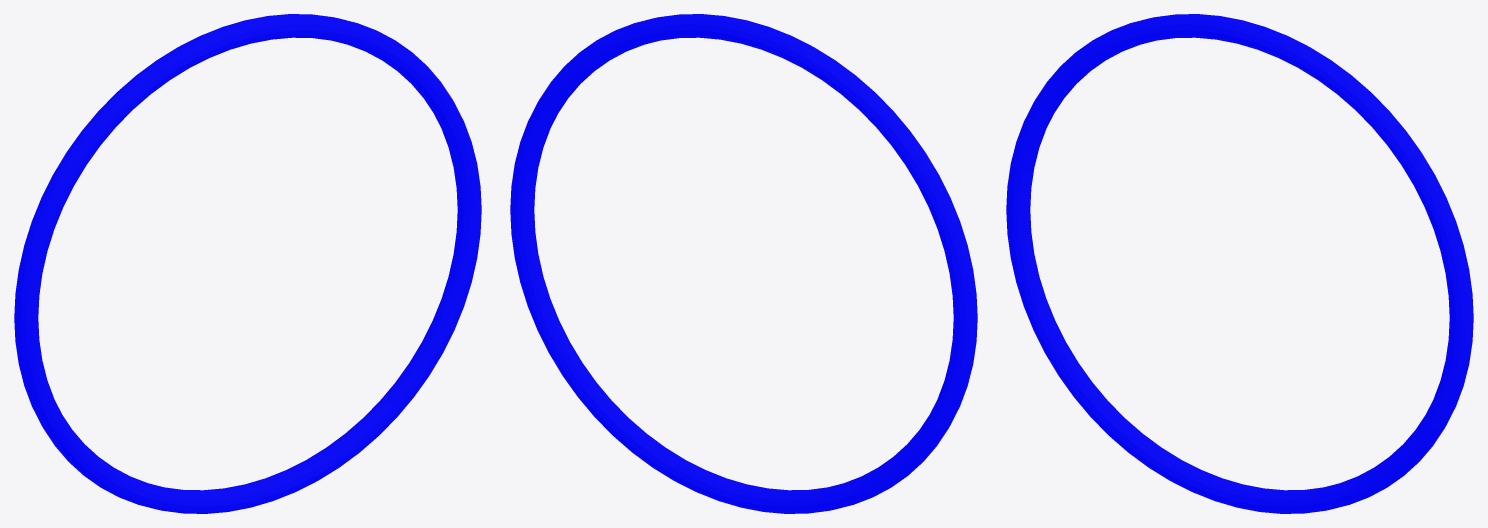
Rendered from rotate_z.glb.
3 renders of one model, left to right at view 1: azimuth 30°, elevation 25°; view 2: azimuth 150°, elevation 25°; view 3: azimuth 330°, elevation 25°, orthographic.
Parts seen in each view (by area): view 1: Ring_Z; view 2: Ring_Z; view 3: Ring_Z.
Boxes of the visible parts, x1=… form: Ring_Z: x1=14, y1=14, x2=481, y2=513; Ring_Z: x1=510, y1=14, x2=977, y2=513; Ring_Z: x1=1006, y1=14, x2=1473, y2=513.
Bounding box in the file's own units: 1.26 × 1.26 × 0.0564.
